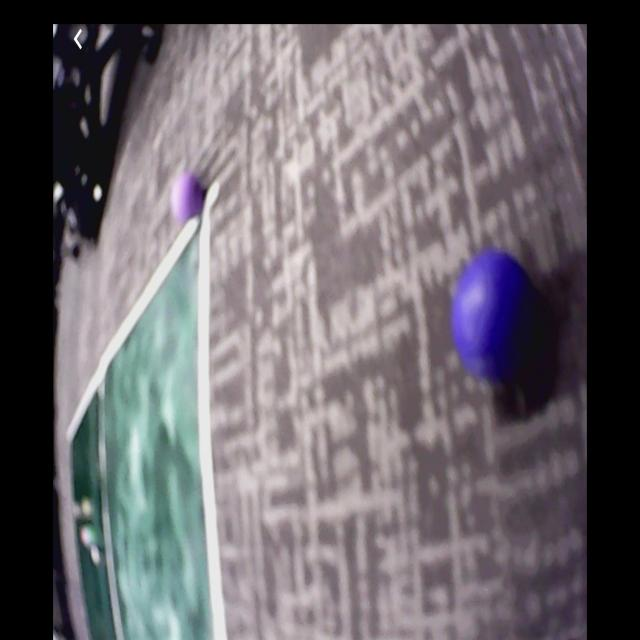ball: (454, 251, 533, 377), (172, 173, 202, 219)
